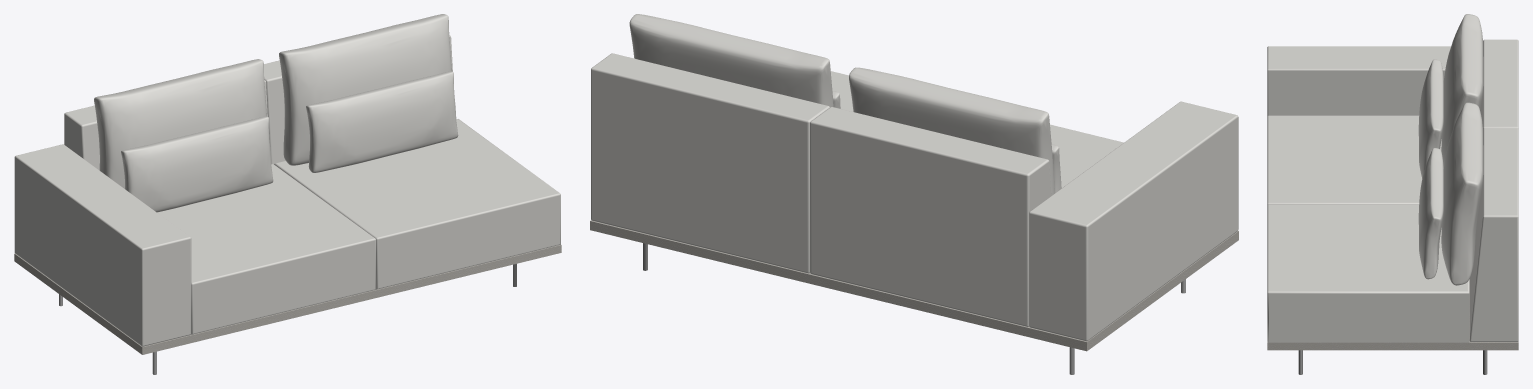
The model's file is single_arm_2_R.glb.
3 renders of one model, left to right at view 1: azimuth 30°, elevation 25°; view 2: azimuth 150°, elevation 25°; view 3: azimuth 270°, elevation 25°, orthographic. The views are drawn at different scales.
Parts seen in each view (by area): view 1: instance_0, instance_0.015, instance_0.017, instance_0.014, instance_0.016, instance_0.001; view 2: instance_0, instance_0.017, instance_0.015, instance_0.001; view 3: instance_0, instance_0.015, instance_0.017, instance_0.014, instance_0.001, instance_0.016.
Boxes of the visible parts, x1=… form: instance_0: x1=14, y1=35, x2=560, y2=346; instance_0.015: x1=279, y1=14, x2=451, y2=165; instance_0.017: x1=94, y1=59, x2=266, y2=188; instance_0.014: x1=306, y1=71, x2=458, y2=172; instance_0.016: x1=121, y1=116, x2=273, y2=212; instance_0.001: x1=14, y1=244, x2=561, y2=354; instance_0: x1=591, y1=53, x2=1238, y2=341; instance_0.017: x1=849, y1=67, x2=1054, y2=195; instance_0.015: x1=629, y1=14, x2=833, y2=107; instance_0.001: x1=590, y1=220, x2=1238, y2=351; instance_0: x1=1267, y1=39, x2=1518, y2=342; instance_0.015: x1=1441, y1=102, x2=1483, y2=285; instance_0.017: x1=1441, y1=14, x2=1483, y2=168; instance_0.014: x1=1418, y1=148, x2=1443, y2=279; instance_0.001: x1=1267, y1=279, x2=1518, y2=350; instance_0.016: x1=1418, y1=59, x2=1443, y2=178.
Bounding box in the file's own units: 1.7 × 0.799 × 0.9.
3 materials, 2 textured.
